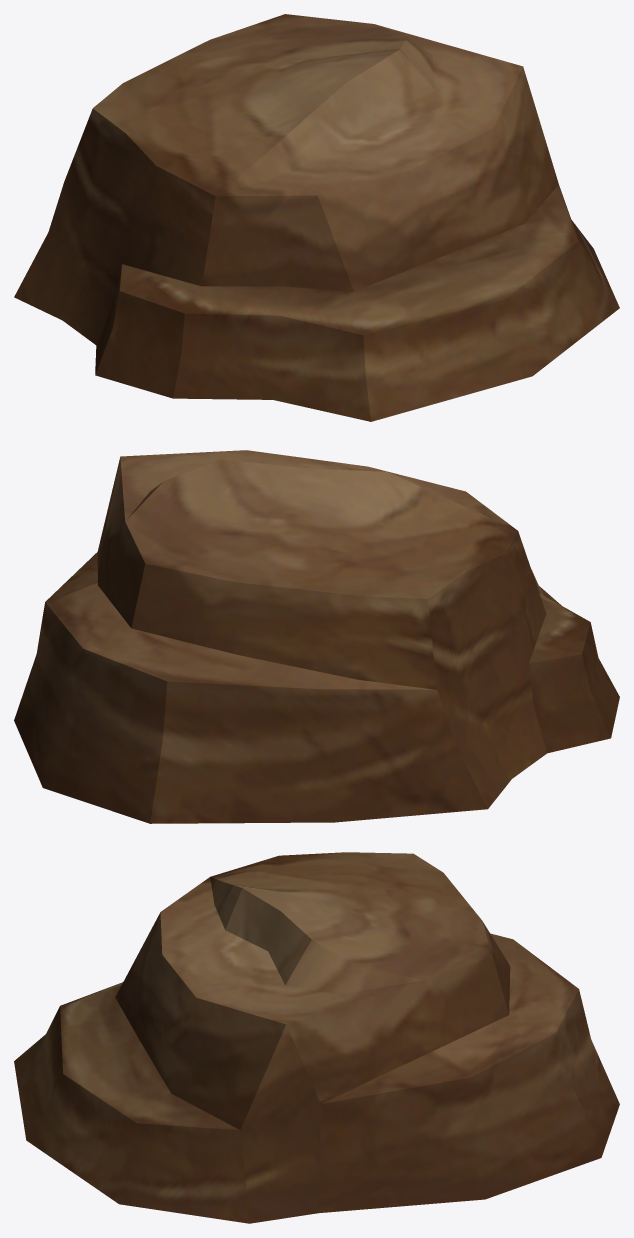
The model's file is nashgar_natural_rock_mid01_01.FBX.
3 renders of one model, top to bottom at view 1: azimuth 30°, elevation 25°; view 2: azimuth 150°, elevation 25°; view 3: azimuth 270°, elevation 25°, orthographic. The views are drawn at different scales.
Visible parts, largest first — view 1: nashgar_natural_rock_mid01_01; view 2: nashgar_natural_rock_mid01_01; view 3: nashgar_natural_rock_mid01_01.
Boxes of the visible parts, left/top/right/bottom form: nashgar_natural_rock_mid01_01: left=14, top=14, right=619, bottom=421; nashgar_natural_rock_mid01_01: left=14, top=450, right=619, bottom=823; nashgar_natural_rock_mid01_01: left=14, top=852, right=619, bottom=1223.
Bounding box in the file's own units: 2.88 × 1.17 × 3.1.
